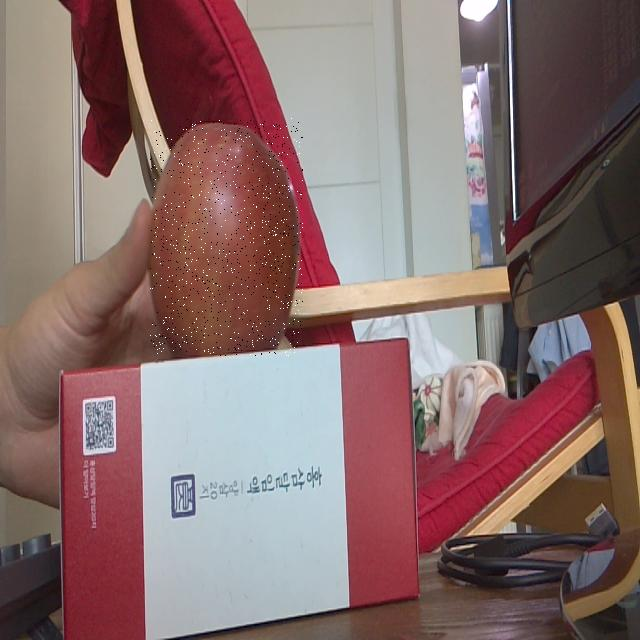apple: (150, 118, 303, 356)
